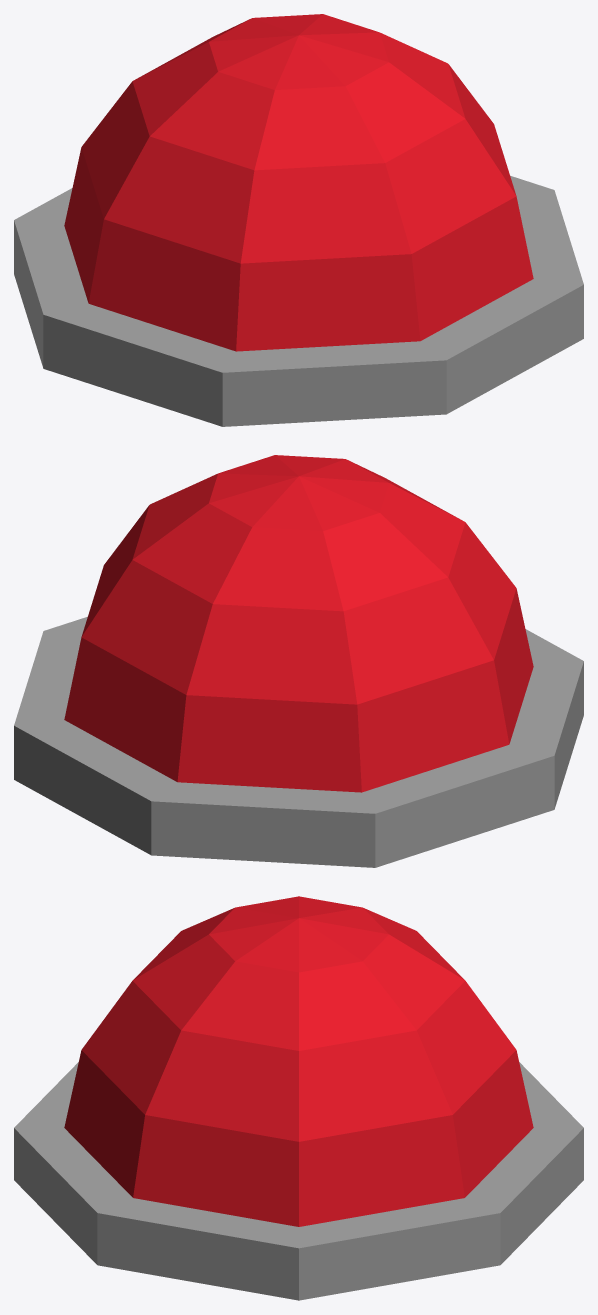
The model's file is RedButton.fbx.
3 renders of one model, top to bottom at view 1: azimuth 30°, elevation 25°; view 2: azimuth 150°, elevation 25°; view 3: azimuth 270°, elevation 25°, orthographic. The views are drawn at different scales.
Parts seen in each view (by area): view 1: Sphere.001, Circle.001; view 2: Sphere.001, Circle.001; view 3: Sphere.001, Circle.001.
Boxes of the visible parts, left/top/right/bottom form: Sphere.001: left=64, top=14, right=533, bottom=351; Circle.001: left=14, top=176, right=583, bottom=426; Sphere.001: left=64, top=455, right=533, bottom=792; Circle.001: left=14, top=617, right=583, bottom=867; Sphere.001: left=64, top=896, right=533, bottom=1226; Circle.001: left=14, top=1062, right=583, bottom=1300.
Bounding box in the file's own units: 200 × 101 × 200.
